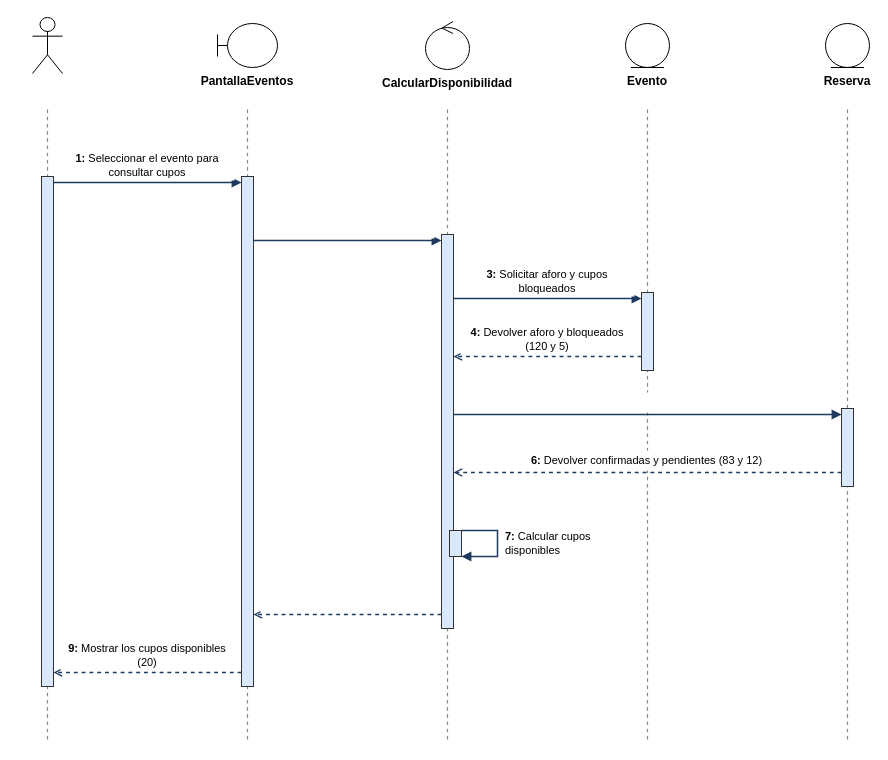
Some shapes in this 888 by 760 pixel diagram are drawn without their labels. Here are the shapes that lost their labels. From the top down, the box of each, then its label:
(32, 16, 62, 74): Estudiante
(260, 208, 434, 238): 2: Solicitar cálculo de disponibilidad
(481, 392, 813, 412): 5: Solicitar reservas confirmadas y pendientes vigentes
(260, 582, 434, 612): 8: Devolver el resultado a la pantalla
